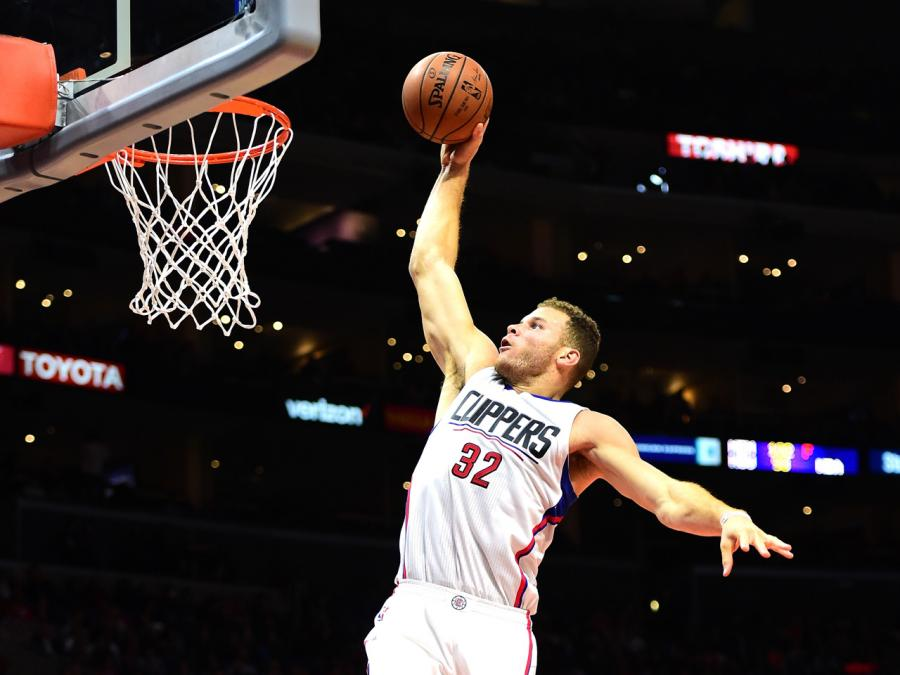ball: (394, 41, 503, 154)
basket: (73, 81, 306, 328)
dunk: (344, 32, 801, 675)
